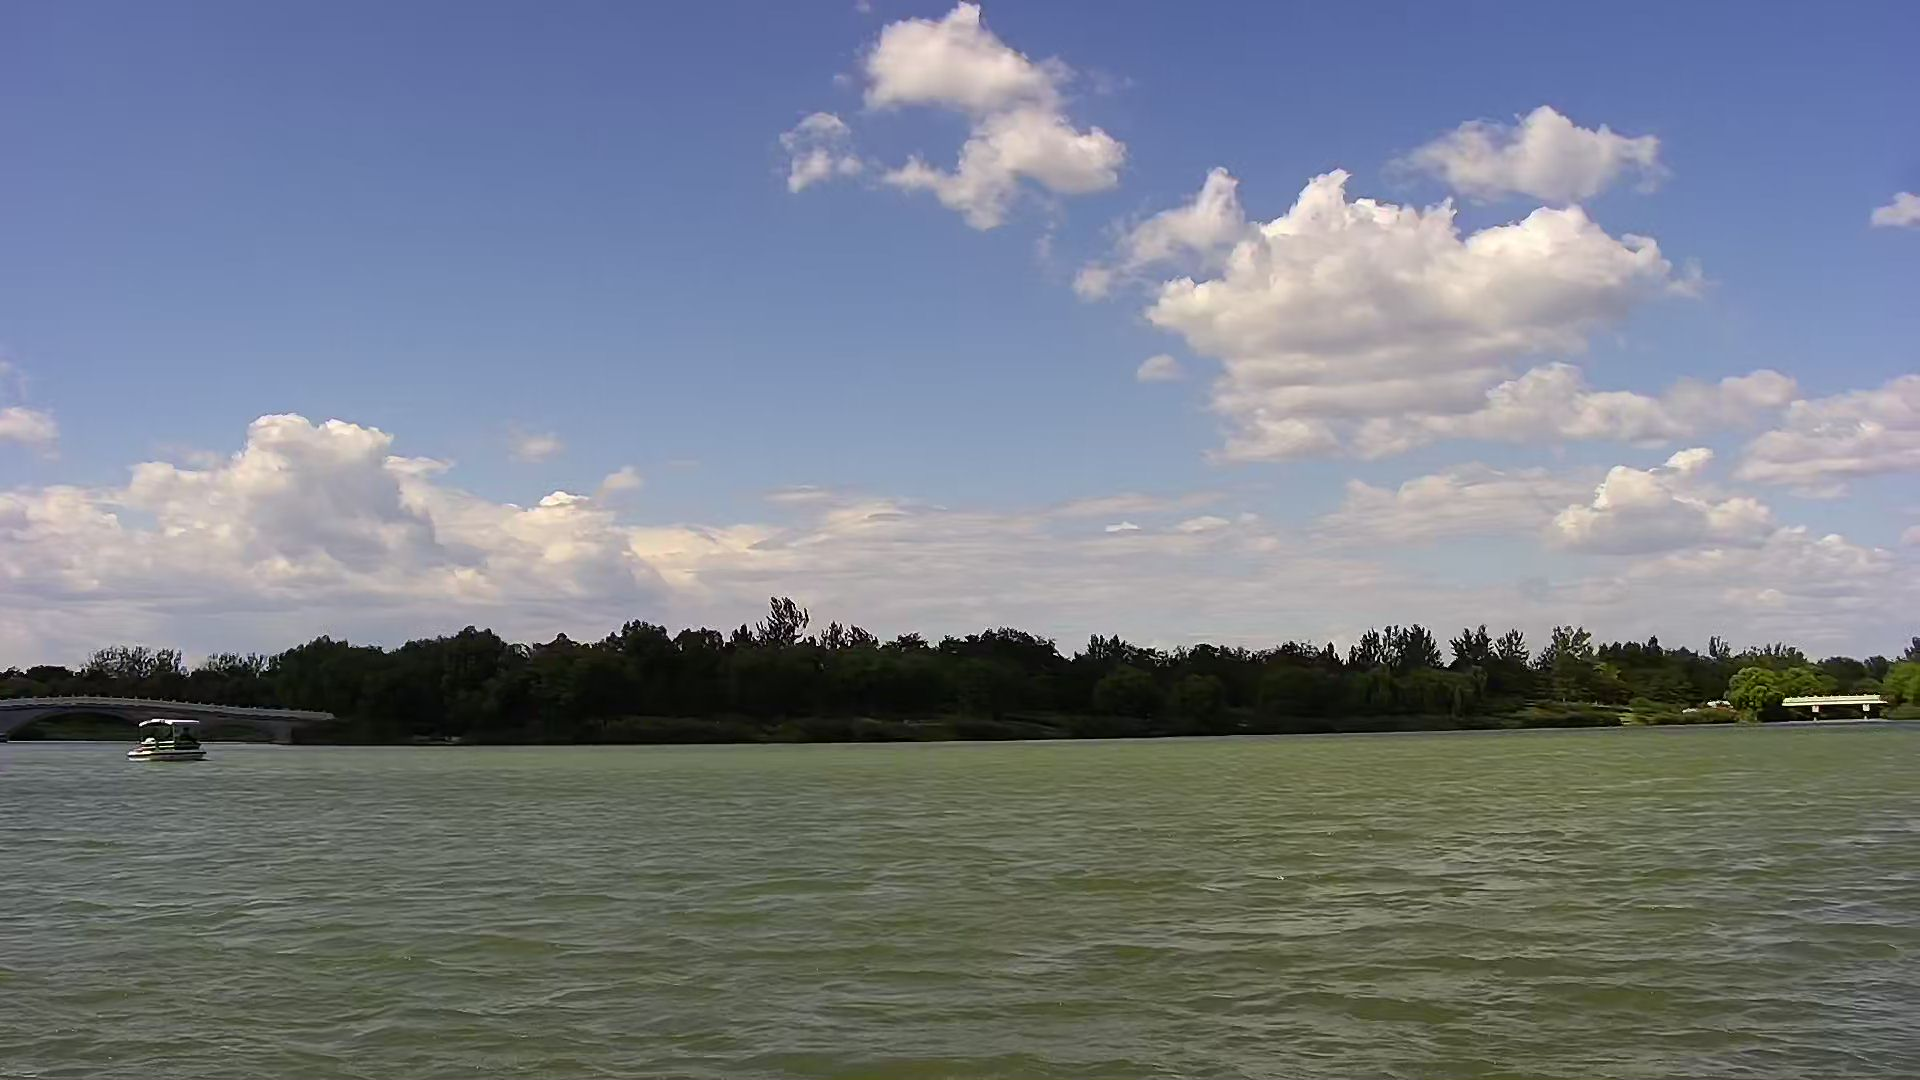boat: (124, 716, 211, 764)
bridge: (1, 694, 330, 753), (1779, 688, 1890, 728)
